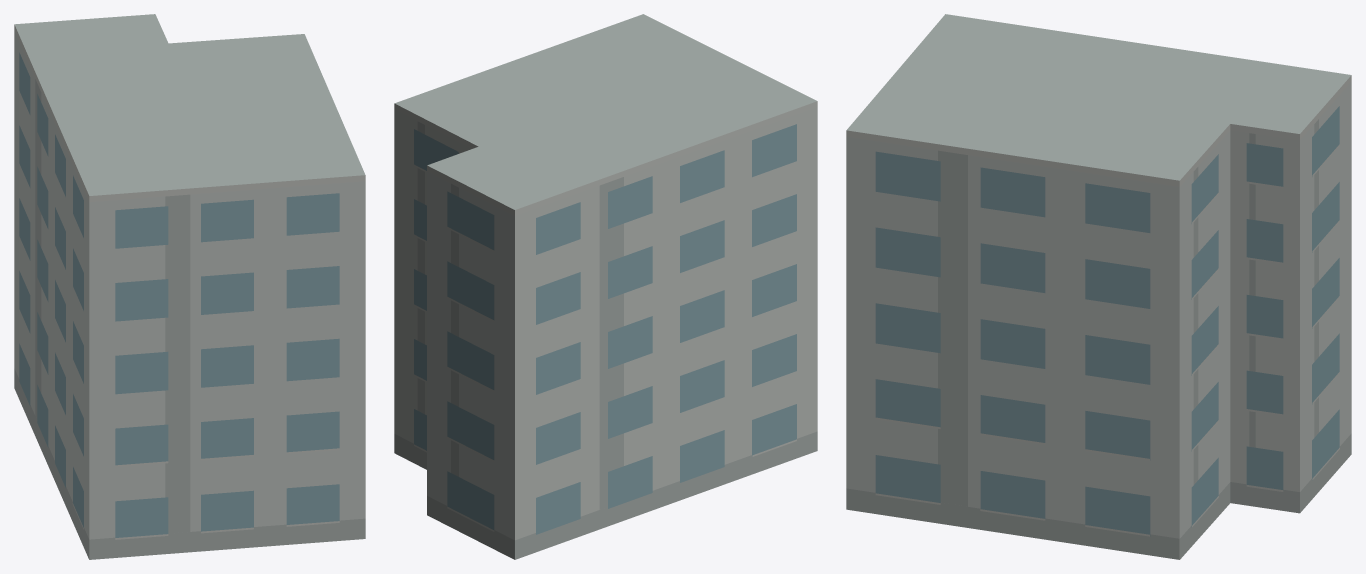
The model's file is survey-upis-32883400.glb.
The picture shows the model from 3 angles, left to right: view 1: azimuth 30°, elevation 25°; view 2: azimuth 150°, elevation 25°; view 3: azimuth 270°, elevation 25°; orthographic projection. The views are drawn at different scales.
Visible parts, largest first — view 1: survey-upis-32883400.tmp; view 2: survey-upis-32883400.tmp; view 3: survey-upis-32883400.tmp.
Part boxes in pixels (x1,y1,x2,y2): survey-upis-32883400.tmp: [14, 14, 365, 559]; survey-upis-32883400.tmp: [394, 14, 817, 559]; survey-upis-32883400.tmp: [846, 14, 1351, 559].
Bounding box in the file's own units: 13.54 × 14.35 × 17.34.
